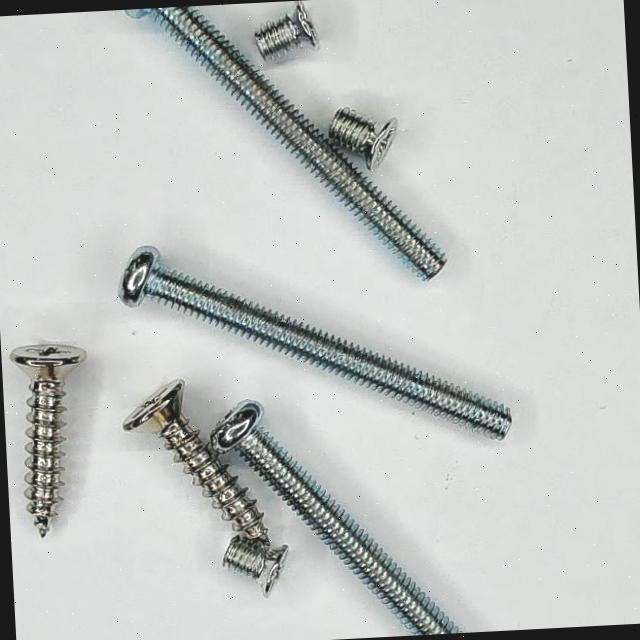Screw: (126, 6, 446, 279), (119, 246, 513, 440), (210, 401, 463, 635), (124, 381, 270, 546), (9, 345, 87, 538), (330, 107, 398, 169), (224, 537, 289, 598), (255, 1, 319, 57)
